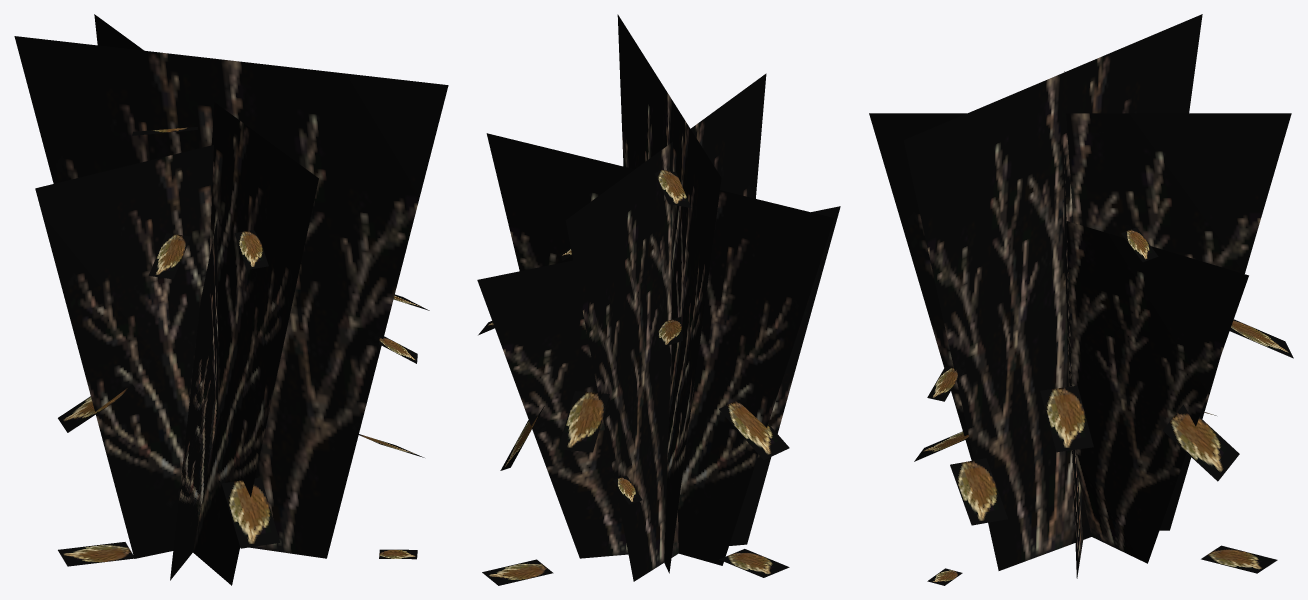
Rendered from shrub_small.fbx.
3 views of the same model, side by side, from view 1: azimuth 30°, elevation 25°; view 2: azimuth 150°, elevation 25°; view 3: azimuth 270°, elevation 25° (orthographic). The views are drawn at different scales.
Parts seen in each view (by area): view 1: mesh_0; view 2: mesh_0; view 3: mesh_0.
Part boxes in pixels (left/top/right/bottom): mesh_0: left=14, top=14, right=448, bottom=585; mesh_0: left=477, top=14, right=840, bottom=585; mesh_0: left=869, top=14, right=1293, bottom=585.
Bounding box in the file's own units: 81.31 × 97.91 × 81.31.
Materials: 1 (1 with a texture image).
